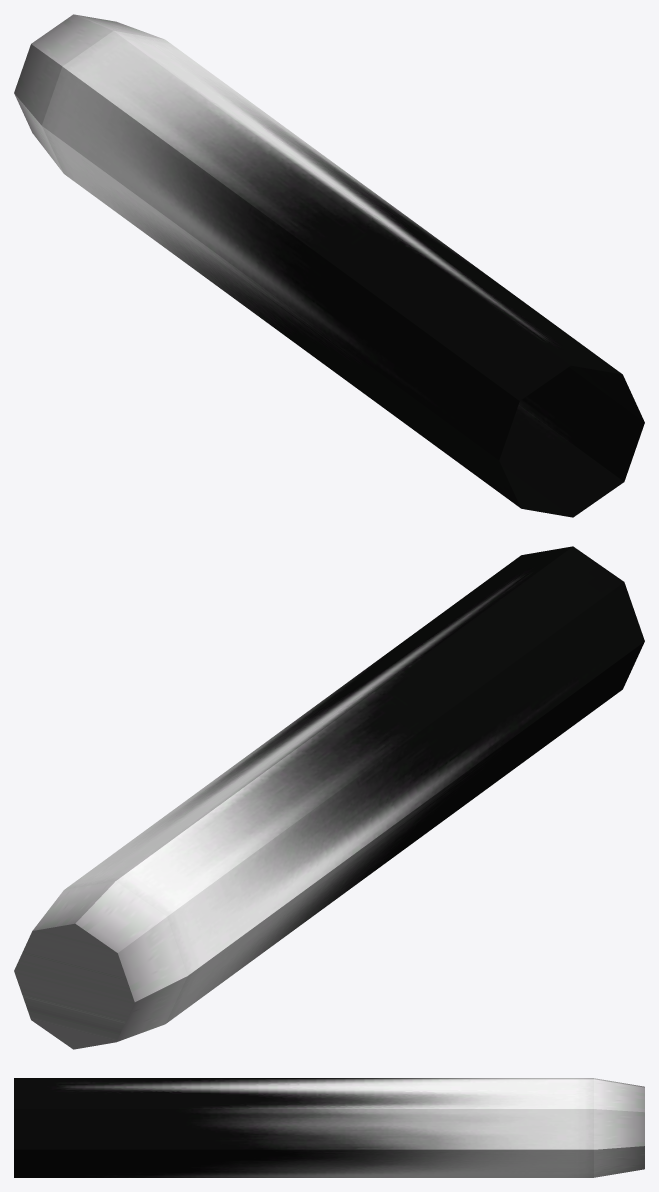
Rendered from BulletSMG_Ice.fbx.
3 renders of one model, top to bottom at view 1: azimuth 30°, elevation 25°; view 2: azimuth 150°, elevation 25°; view 3: azimuth 270°, elevation 25°, orthographic. The views are drawn at different scales.
Parts seen in each view (by area): view 1: BulletMesh; view 2: BulletMesh; view 3: BulletMesh.
Part boxes in pixels (left/top/right/bottom): BulletMesh: left=14, top=14, right=644, bottom=517; BulletMesh: left=14, top=546, right=644, bottom=1049; BulletMesh: left=14, top=1078, right=644, bottom=1177.
Bounding box in the file's own units: 0.1809 × 0.1809 × 1.07.
